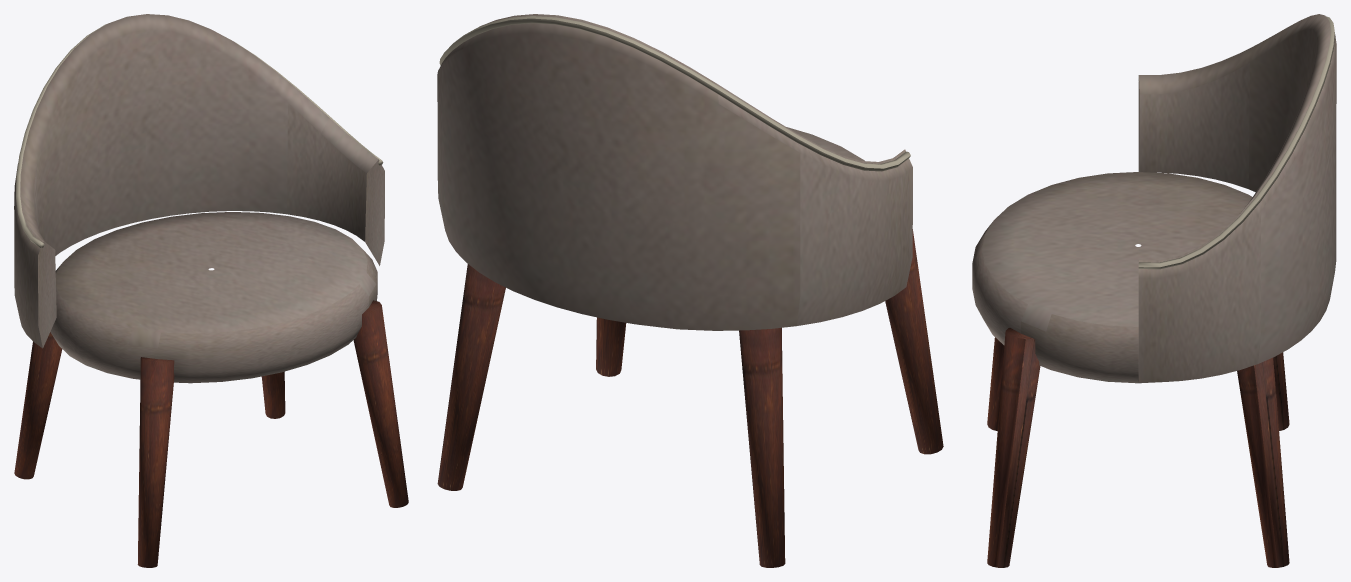
Rendered from linen-salon-chair.glb.
The picture shows the model from 3 angles, left to right: view 1: azimuth 30°, elevation 25°; view 2: azimuth 150°, elevation 25°; view 3: azimuth 270°, elevation 25°; orthographic projection. The views are drawn at different scales.
Visible parts, largest first — view 1: Frame; view 2: Frame; view 3: Frame.
Boxes of the visible parts, x1,y1,x2,y2 form: Frame: (14,14,408,567); Frame: (437,14,943,567); Frame: (972,14,1336,567).
Bounding box in the file's own units: 0.7282 × 0.8259 × 0.5837.
3 materials, 2 textured.
